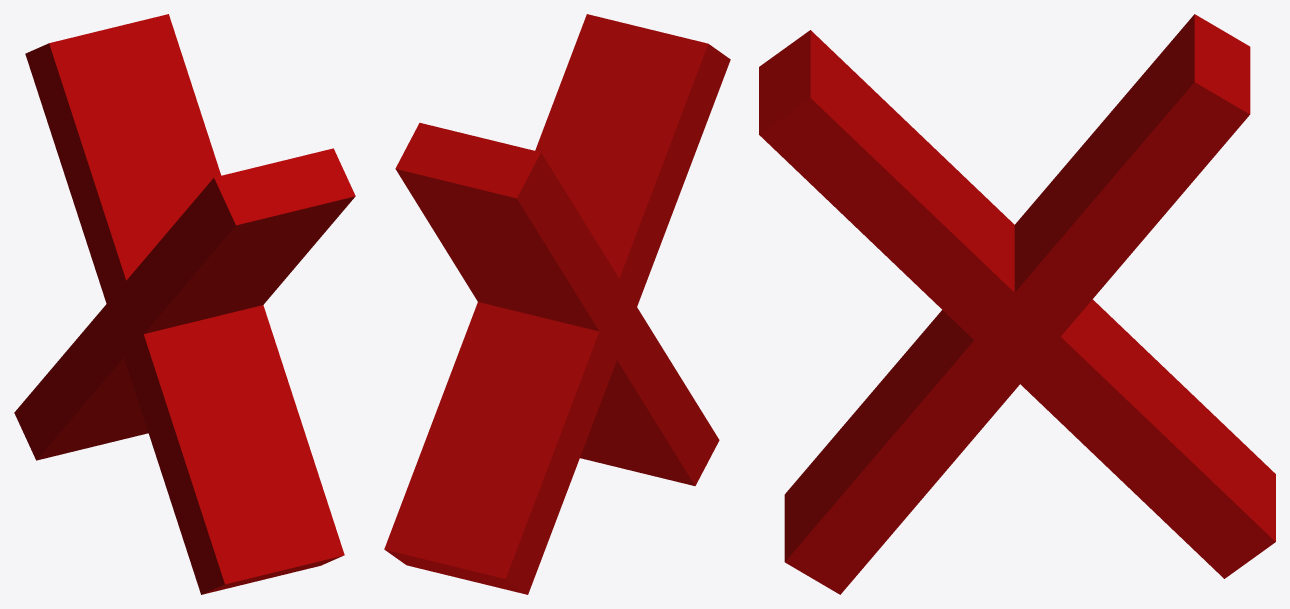
Rendered from delete.fbx.
3 views of the same model, side by side, from view 1: azimuth 30°, elevation 25°; view 2: azimuth 150°, elevation 25°; view 3: azimuth 270°, elevation 25° (orthographic). The views are drawn at different scales.
Visible parts, largest first — view 1: pCube3; view 2: pCube3; view 3: pCube3.
Boxes of the visible parts, left/top/right/bottom form: pCube3: left=14, top=14, right=355, bottom=594; pCube3: left=384, top=14, right=730, bottom=594; pCube3: left=759, top=14, right=1275, bottom=594.
Bounding box in the file's own units: 0.3015 × 1.06 × 0.9676.
